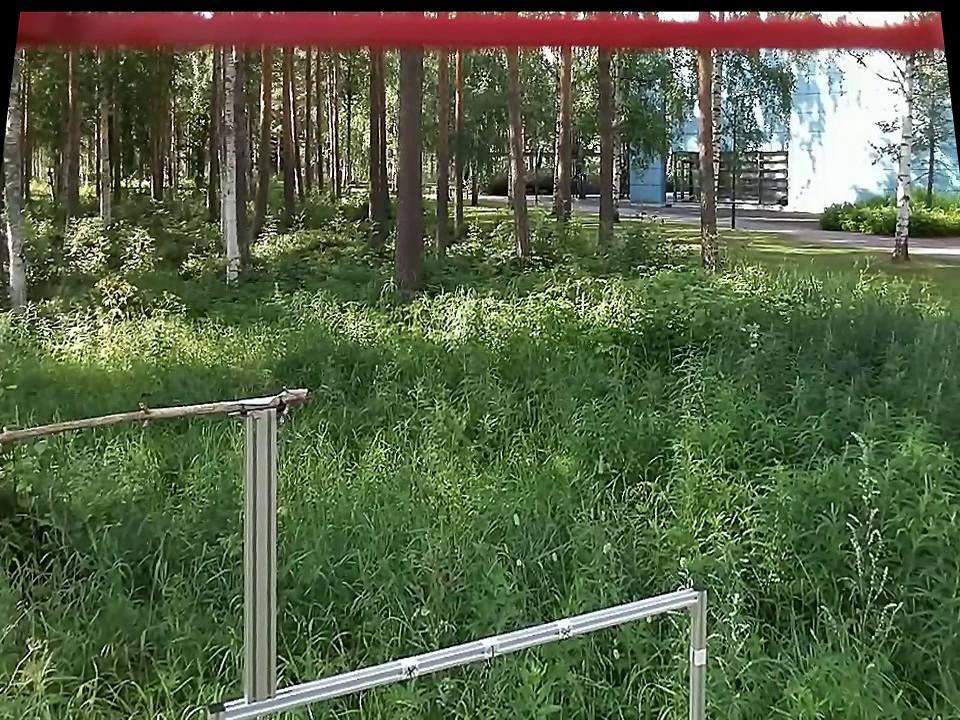aluminum_frame: (226, 581, 691, 718), (239, 414, 279, 696), (686, 580, 711, 717)
branch: (3, 394, 222, 446)
